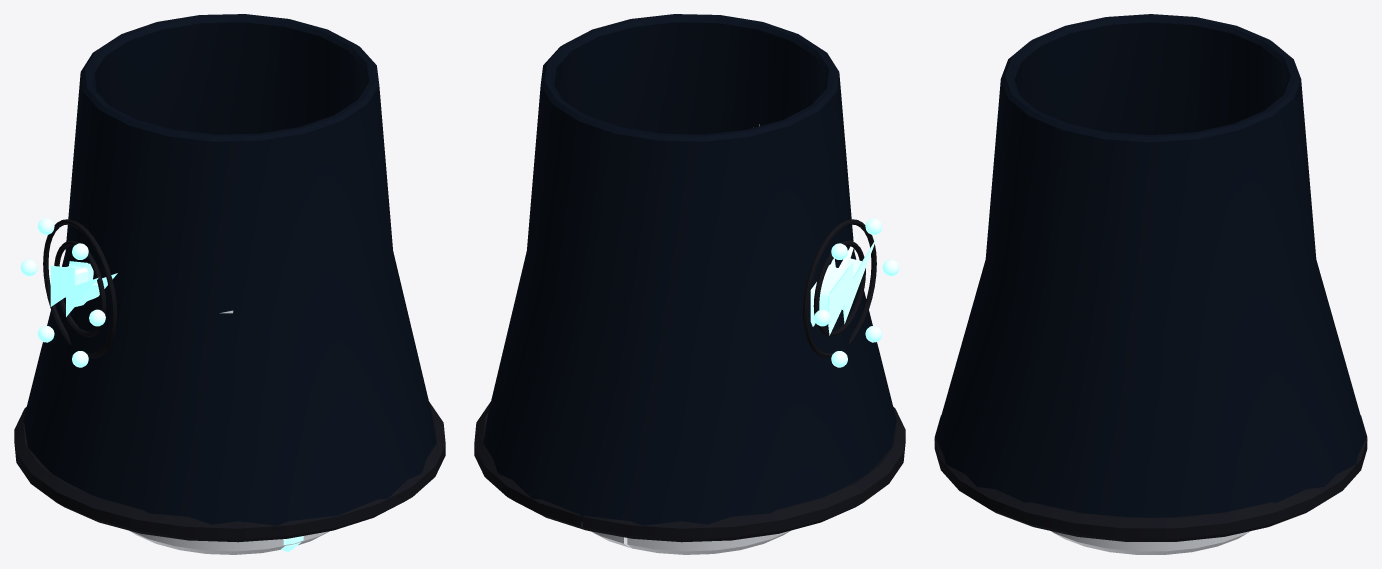
Rendered from esc_null_choir_gloves_R.glb.
The picture shows the model from 3 angles, left to right: view 1: azimuth 30°, elevation 25°; view 2: azimuth 150°, elevation 25°; view 3: azimuth 270°, elevation 25°; orthographic projection.
Parts seen in each view (by area): view 1: esc_null_choir_gloves; view 2: esc_null_choir_gloves; view 3: esc_null_choir_gloves.
Boxes of the visible parts, x1,y1,x2,y2 form: esc_null_choir_gloves: (14, 14, 445, 554); esc_null_choir_gloves: (474, 14, 905, 554); esc_null_choir_gloves: (934, 14, 1367, 554).
Bounding box in the file's own units: 0.221 × 0.2464 × 0.2227.
